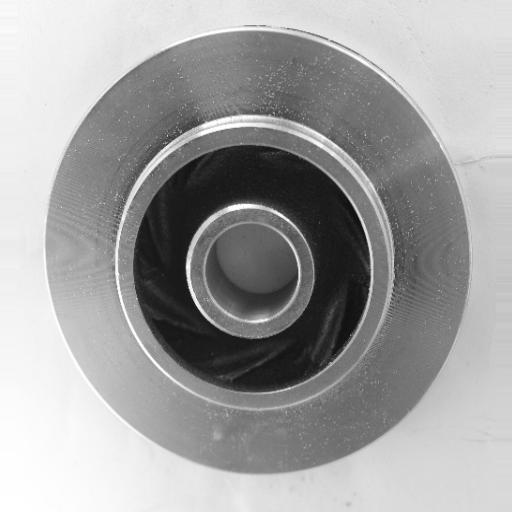polished_casting: (44, 24, 473, 475)
